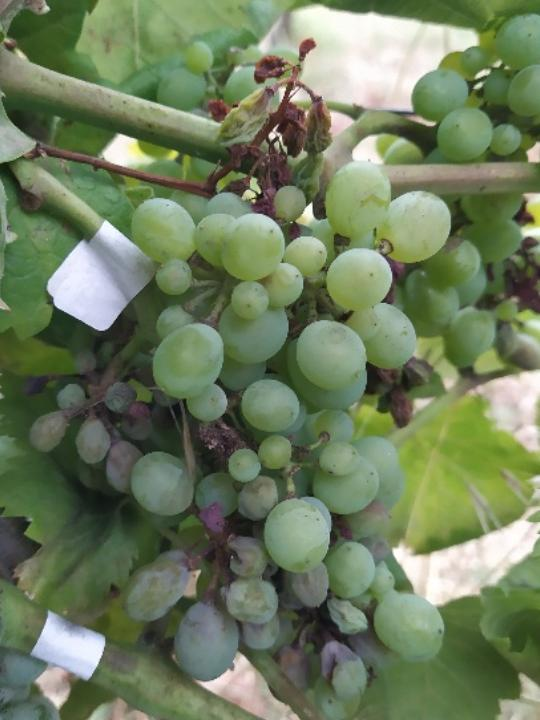grape: (25, 34, 461, 716), (383, 0, 540, 371)
